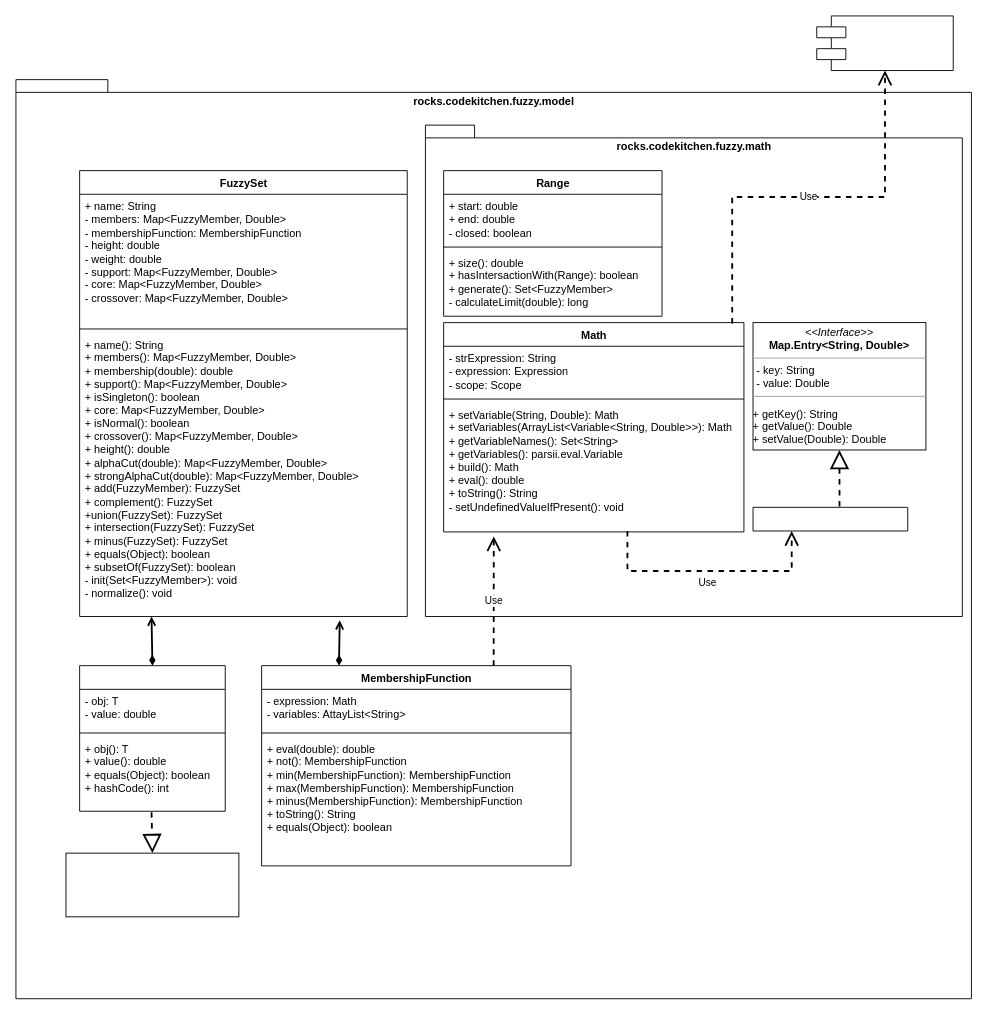
The diagram is 987 pixels wide and 1015 high, and some of its shapes have lost their labels. Each missing label, with the box of its shape:
<<Interface>> Valued + value(): double: (65, 852, 239, 917)
com.scireum.Parsii: (816, 15, 953, 71)
FuzzyMember<T>: (79, 665, 225, 811)
Variable<String, Double >: (752, 506, 908, 531)
